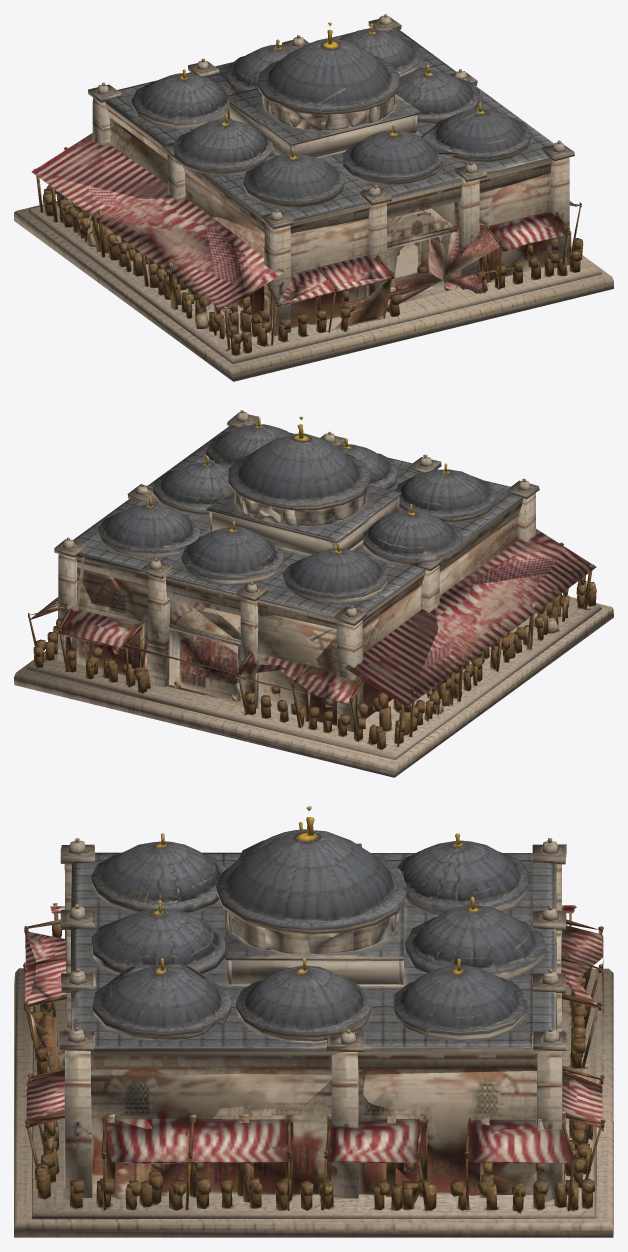
The model's file is Meshy_AI_model.glb.
The picture shows the model from 3 angles, top to bottom: view 1: azimuth 30°, elevation 25°; view 2: azimuth 150°, elevation 25°; view 3: azimuth 270°, elevation 25°; orthographic projection. The views are drawn at different scales.
Size of the model in its own units: 1 by 0.5787 by 1.
Materials: 1 (1 with a texture image).
